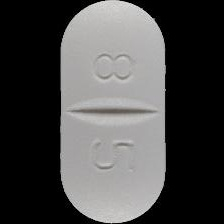55700-230: (0, 0, 224, 224)
